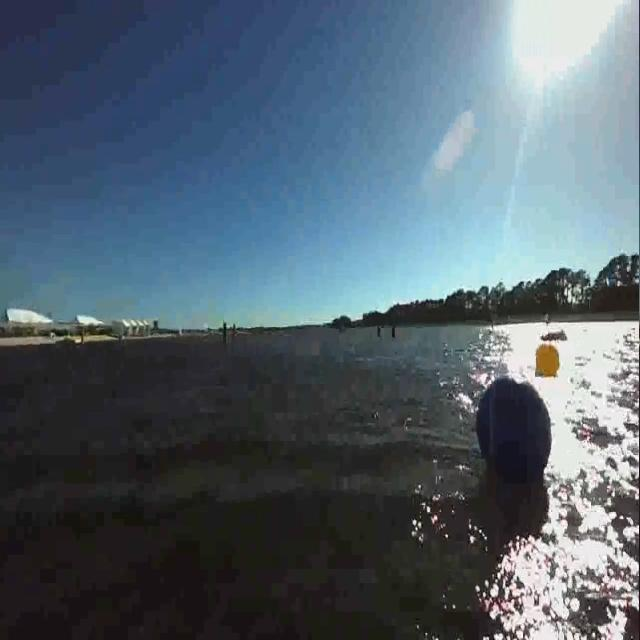black-buoy: (477, 378, 551, 489)
yellow-buoy: (535, 340, 561, 378)
